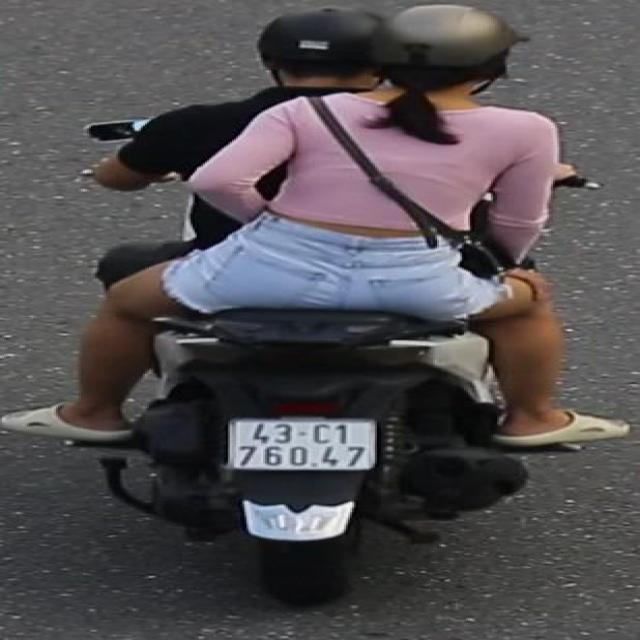LP: (221, 410, 382, 474)
helmet: (357, 3, 527, 103)
